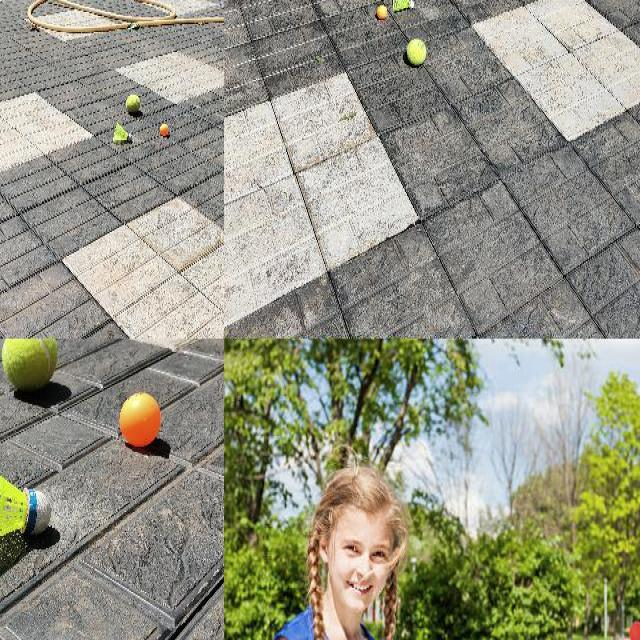ping-pong-ball: (119, 392, 161, 448), (376, 4, 386, 20), (158, 123, 168, 136)
